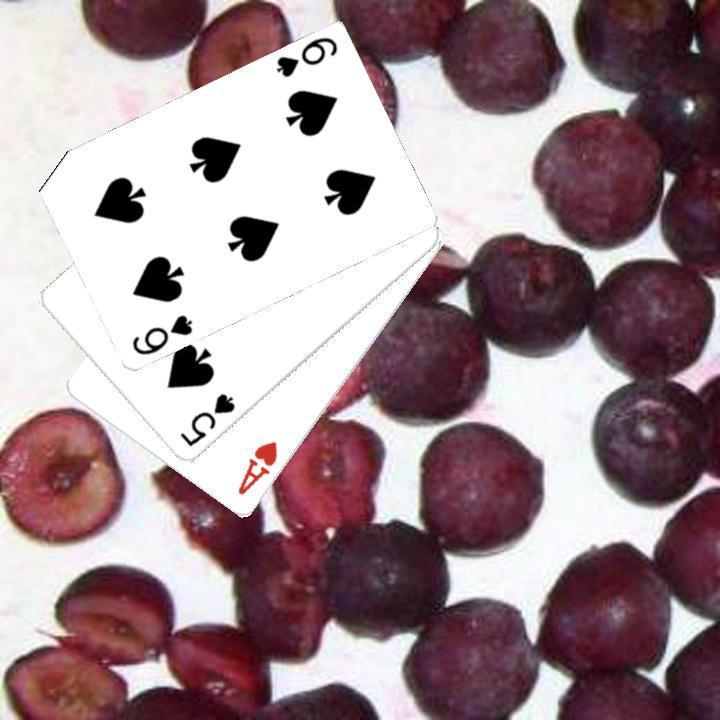5: (175, 389, 238, 449)
6: (271, 33, 340, 80), (127, 311, 195, 358)
A: (233, 437, 280, 498)
